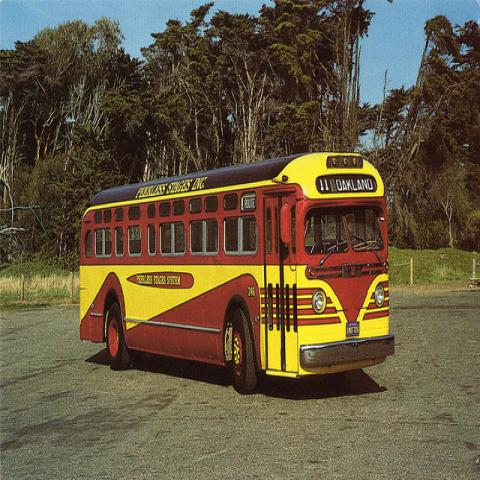bus: (78, 151, 398, 398)
